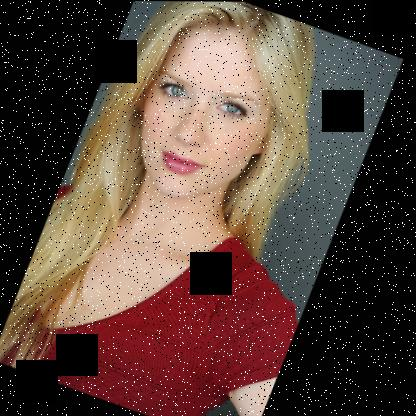Female: (115, 6, 305, 221)
